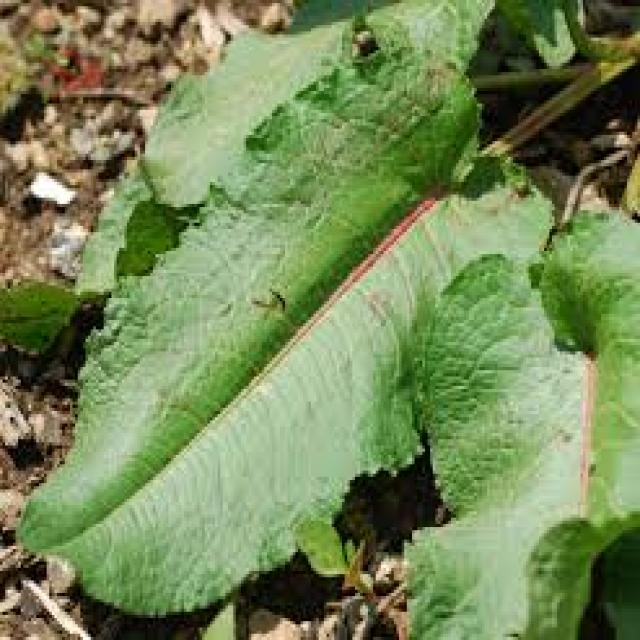organic waste: (0, 3, 640, 634)
